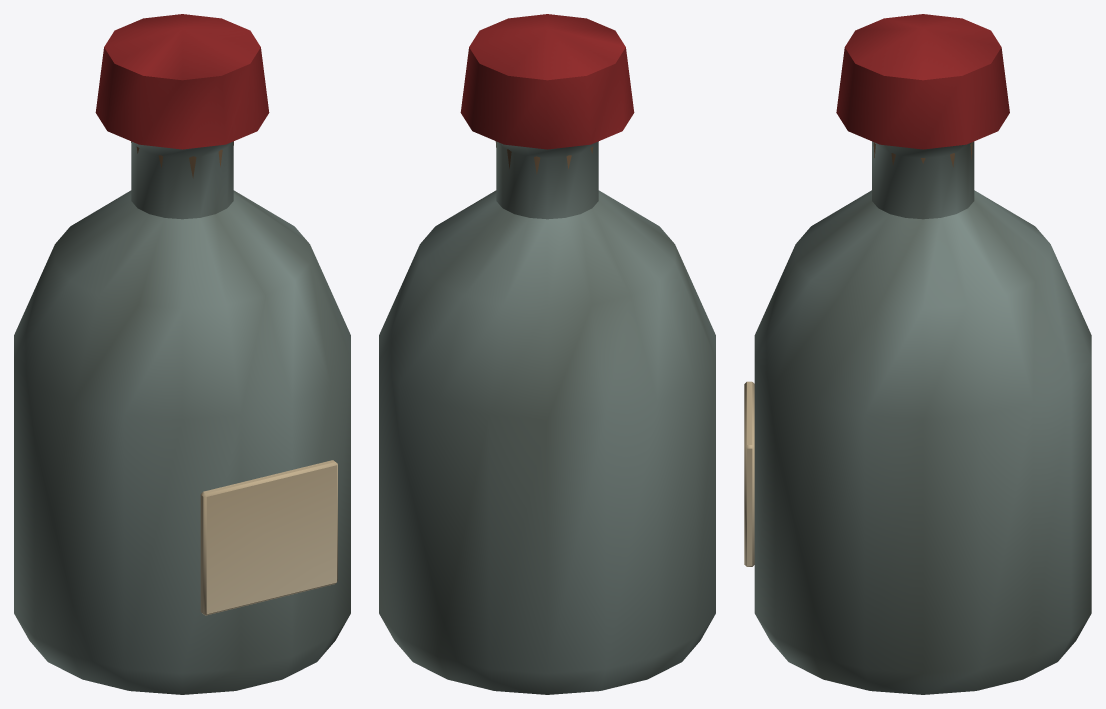
Rendered from lantern-refill.glb.
3 views of the same model, side by side, from view 1: azimuth 30°, elevation 25°; view 2: azimuth 150°, elevation 25°; view 3: azimuth 270°, elevation 25° (orthographic).
Parts seen in each view (by area): view 1: lantern-refill; view 2: lantern-refill; view 3: lantern-refill.
Part boxes in pixels (left/top/right/bottom): lantern-refill: left=14, top=14, right=350, bottom=694; lantern-refill: left=379, top=14, right=715, bottom=694; lantern-refill: left=744, top=14, right=1091, bottom=694.
Bounding box in the file's own units: 0.066 × 0.128 × 0.067.
